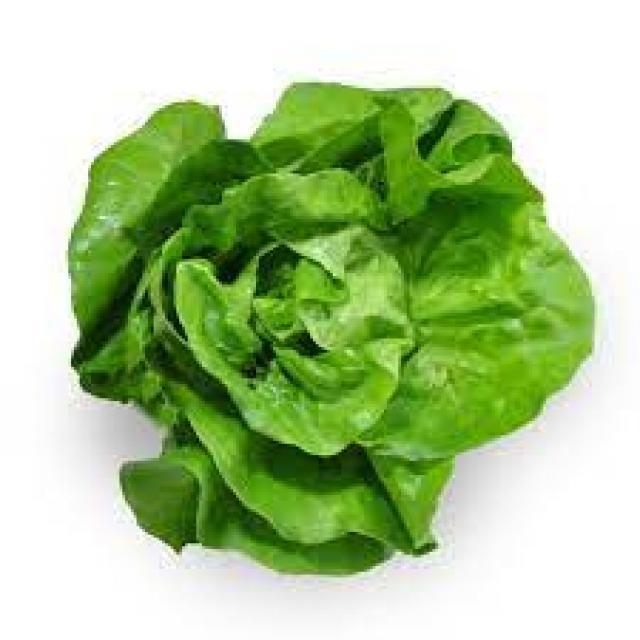Lettuce: (67, 79, 595, 576)
